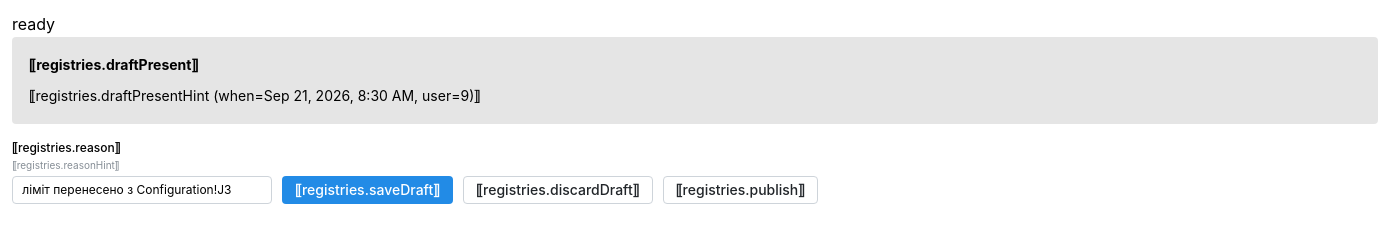
Test: BE-24 крок 2: чернетка опису довідника в конструкторі › definitionDraftStale лишає чернетку на екрані і не пропонує її перечитати
Expected: the text with test id "session" reads "ready", [12,14,55,34]
Click the button "⟦registries.saveDraft⟧".
click(368, 190)  # box [282,176,453,204]
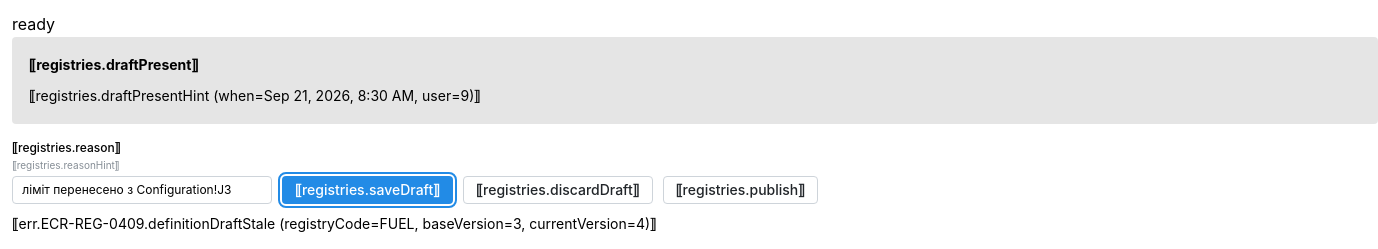
Expected: the message with test id "registry-draft-present" is shown, [12,37,1377,124]
Expected: the text "err.ECR-REG-0409.definitionDraftStale" is shown, [12,215,657,232]
